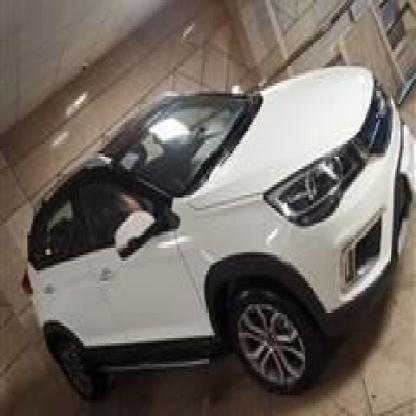Car: (0, 72, 416, 406)
